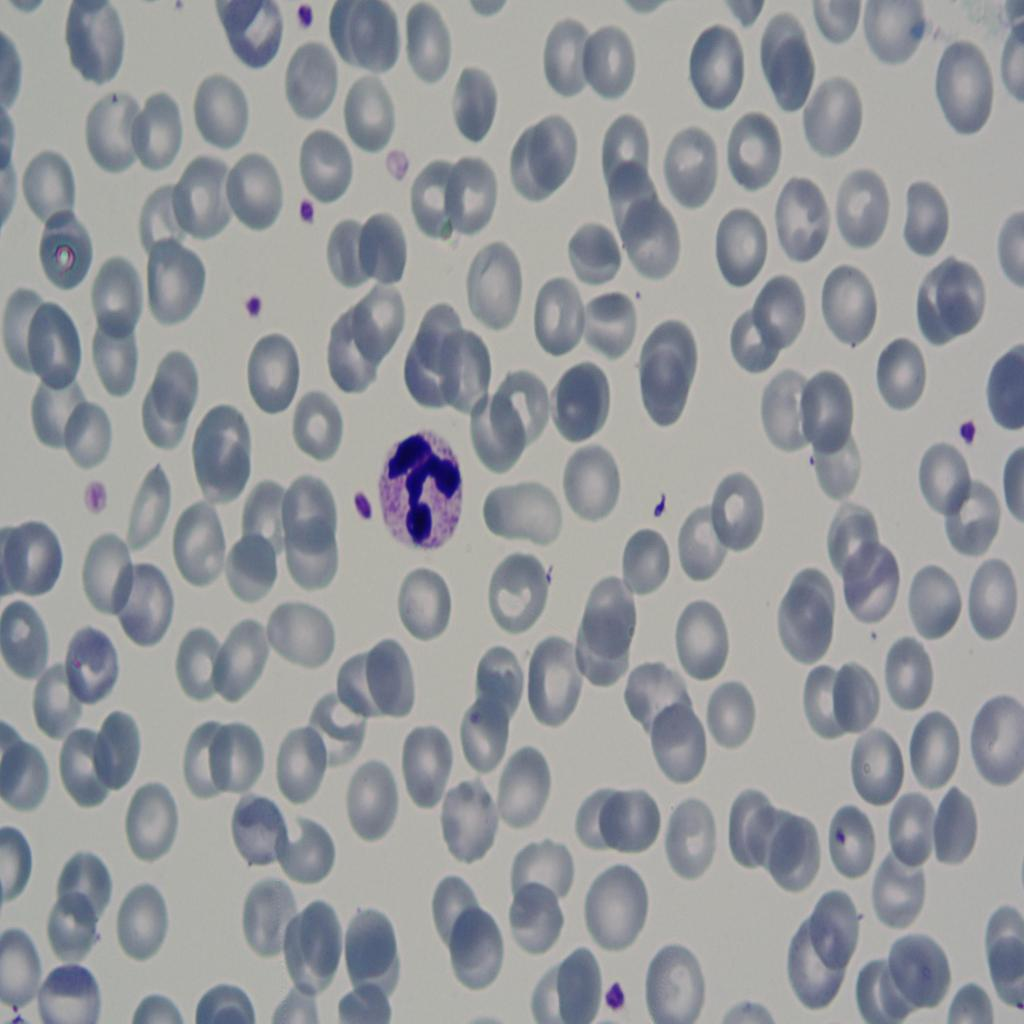Neutrofil: (381, 426, 461, 550)
Platelet: (588, 966, 638, 1016), (368, 142, 413, 197), (85, 474, 126, 529), (949, 411, 987, 461), (279, 0, 326, 38), (232, 284, 272, 327), (347, 480, 372, 532), (295, 189, 322, 232), (654, 483, 680, 521)
